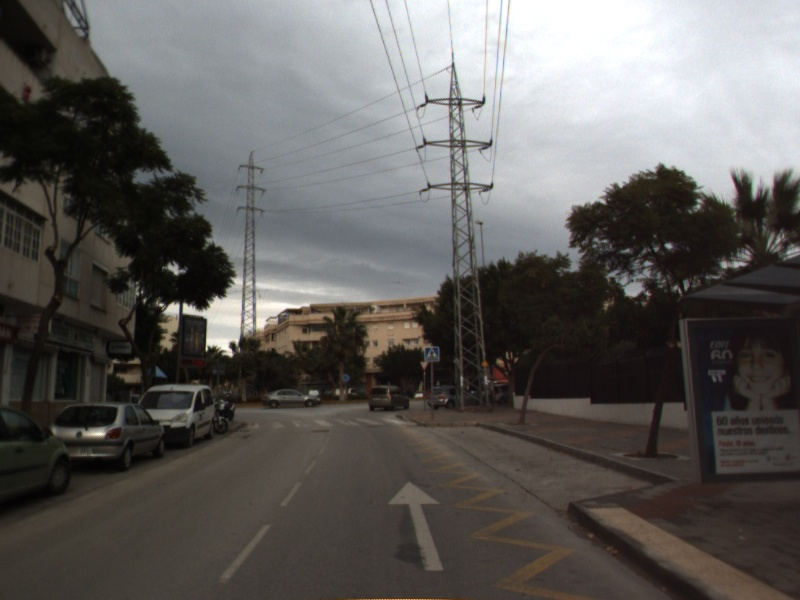STRAIGHT: (385, 479, 446, 574)
